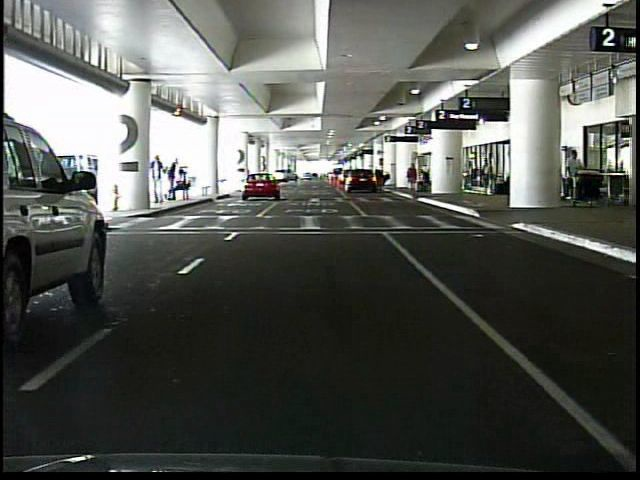person: (562, 148, 585, 206), (152, 152, 168, 205), (169, 169, 191, 202), (168, 159, 179, 201), (404, 162, 418, 194), (481, 161, 492, 197), (460, 162, 473, 191)
